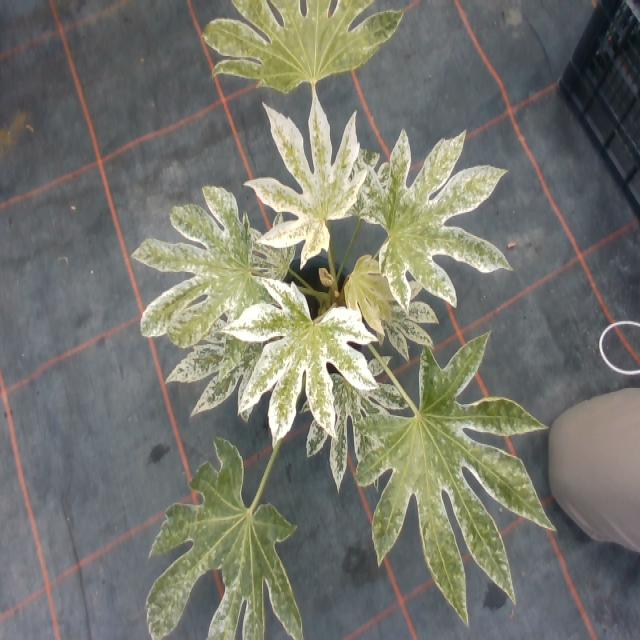Fatsia-japonica: (363, 336, 543, 610), (130, 428, 303, 640), (110, 166, 272, 356), (361, 112, 494, 324), (232, 264, 356, 438), (246, 86, 365, 254), (271, 335, 418, 469), (208, 0, 401, 93), (175, 288, 282, 414), (379, 266, 449, 362), (338, 252, 393, 329)
